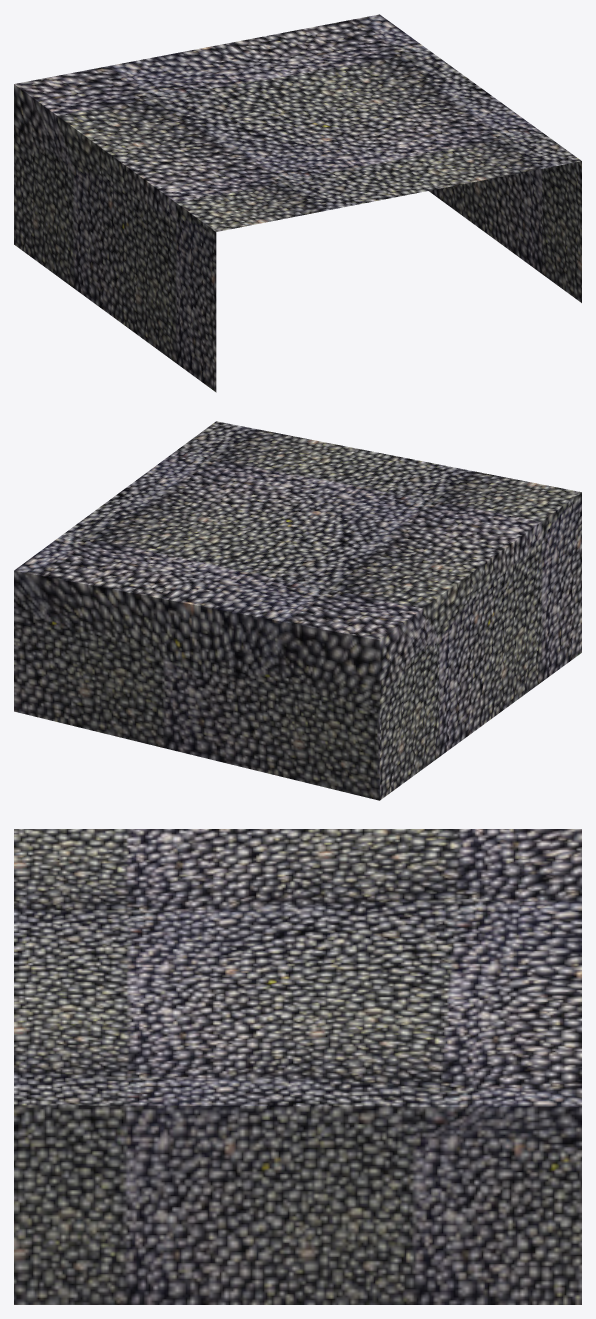
File: SM_配餐区_黑豆_01.fbx
3 views of the same model, one above another, from view 1: azimuth 30°, elevation 25°; view 2: azimuth 150°, elevation 25°; view 3: azimuth 270°, elevation 25° (orthographic). The views are drawn at different scales.
Visible parts, largest first — view 1: SM_配餐区_黑豆_01; view 2: SM_配餐区_黑豆_01; view 3: SM_配餐区_黑豆_01.
Boxes of the visible parts, x1,y1,x2,y2 form: SM_配餐区_黑豆_01: [14, 14, 581, 392]; SM_配餐区_黑豆_01: [14, 421, 581, 800]; SM_配餐区_黑豆_01: [14, 829, 581, 1304].
Bounding box in the file's own units: 287 × 120 × 275.
